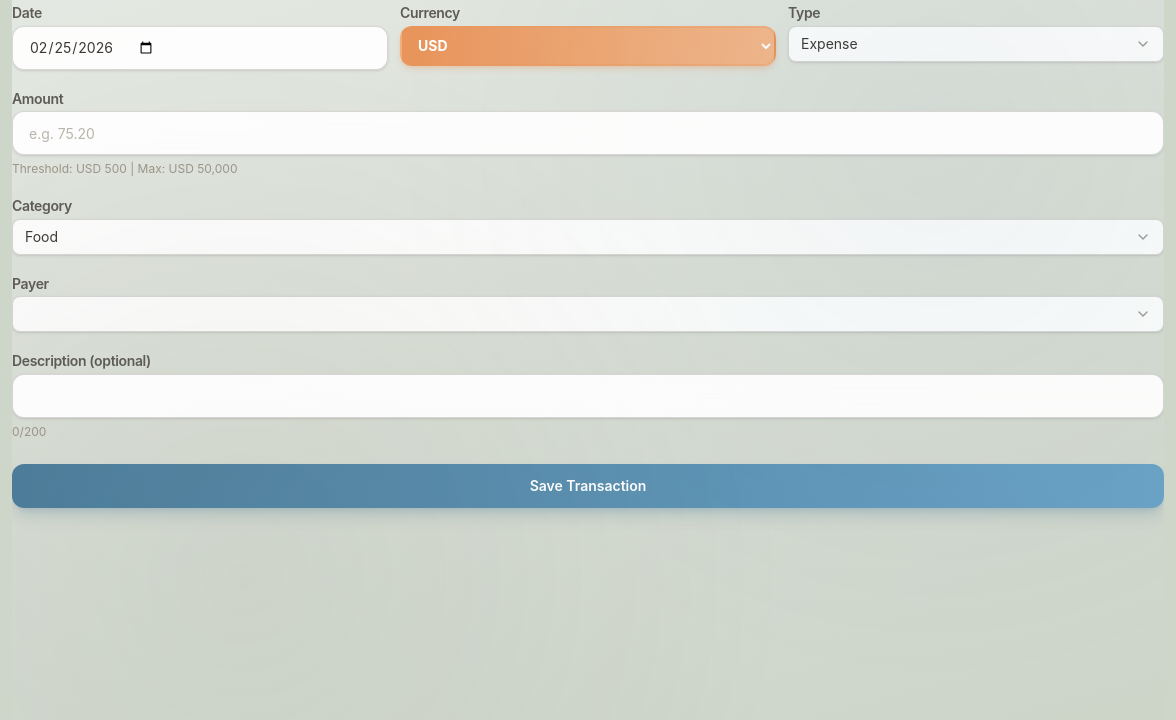
Scenario: QuickAddForm › Amount validation › shows error for negative amount
Type "-50" into the field with placeholder "e.g. 75.20" at point(588, 133), box [12,111,1164,155]
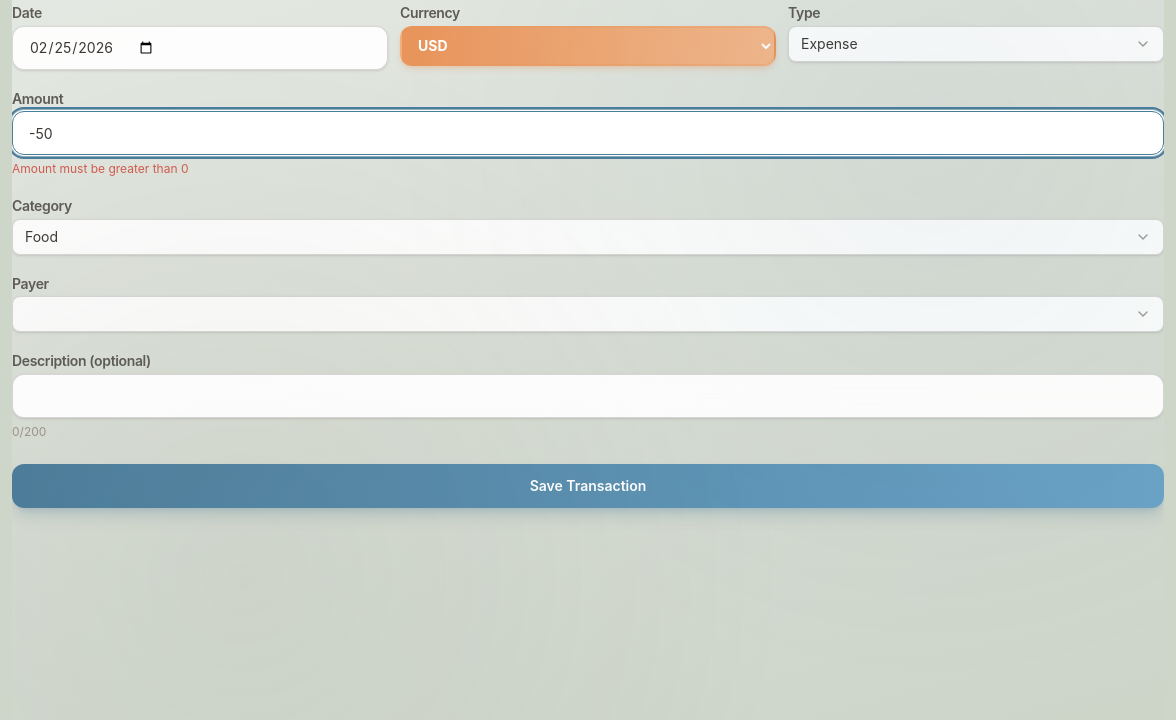
Expected: the text "Amount must be greater than 0" is shown, [12,161,188,176]
